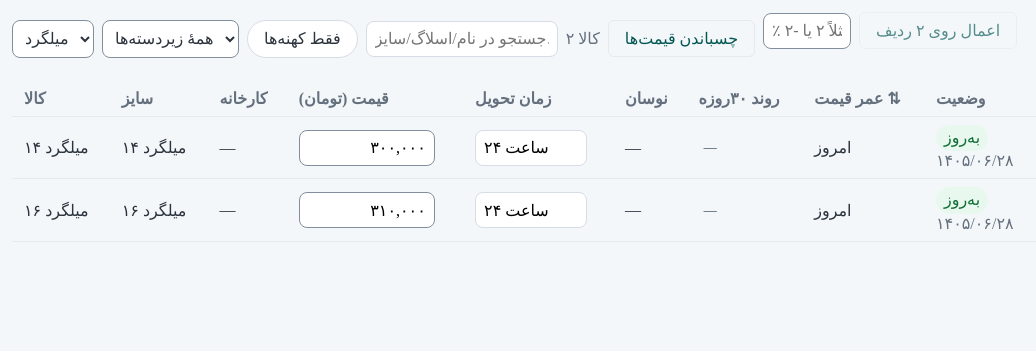
Test: PricingGrid dirty tracking › counts every changed row in the save bar and «انصراف» throws the lot away
This screenshot has width=1036, height=351.
Step 1. Clear the field named "قیمت میلگرد ۱۴" → (367, 148), box x1=299 y1=130 x2=435 y2=166
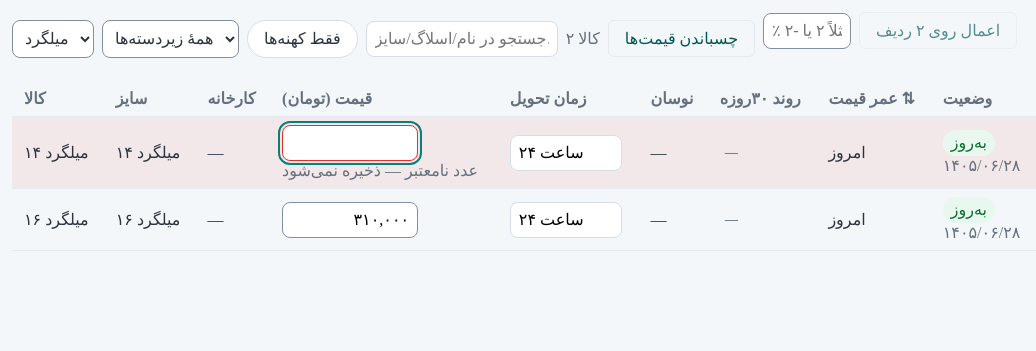
Step 2. Type "301000" into the field named "قیمت میلگرد ۱۴" → (350, 143), box x1=282 y1=125 x2=418 y2=161
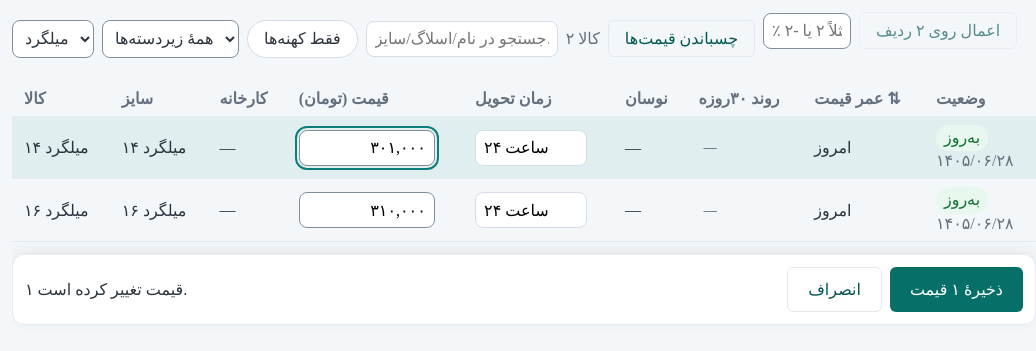
Expected: the text "۱ قیمت تغییر کرده است." is shown, x1=25 y1=280 x2=187 y2=299
Step 3. Clear the field named "قیمت میلگرد ۱۶" → (367, 210), box x1=299 y1=192 x2=435 y2=228
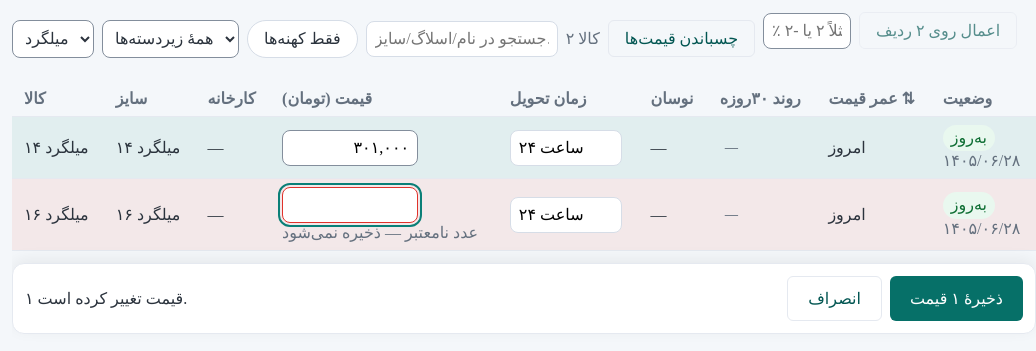
Step 4. Type "311000" into the field named "قیمت میلگرد ۱۶" → (350, 205), box x1=282 y1=187 x2=418 y2=223
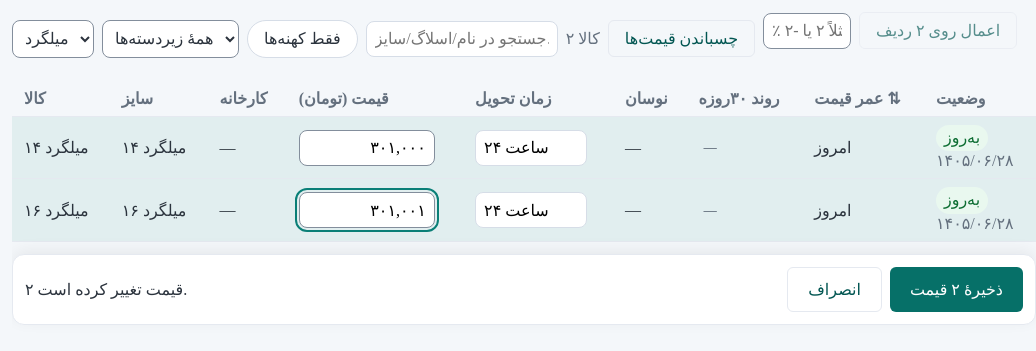
Expected: the text "۲ قیمت تغییر کرده است." is shown, x1=25 y1=280 x2=187 y2=299
Expected: the button "ذخیرهٔ ۲ قیمت" is shown, x1=890 y1=267 x2=1023 y2=312
Step 5. Click the button "انصراف" → (835, 289), box x1=787 y1=267 x2=882 y2=312
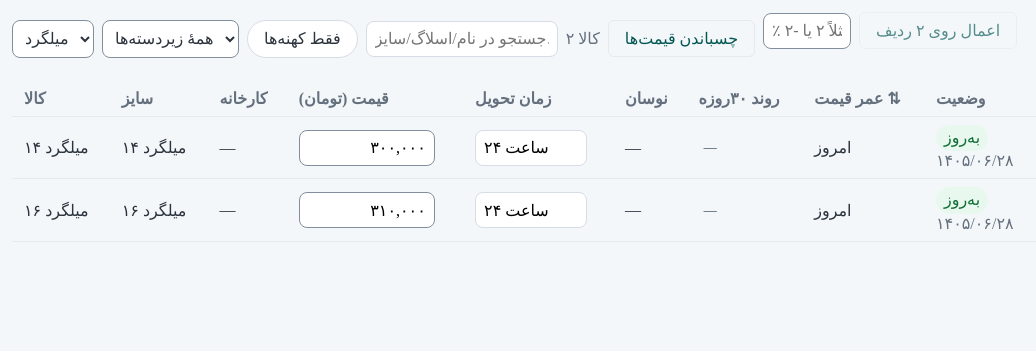
Expected: the field named "قیمت میلگرد ۱۴" holds "۳۰۰,۰۰۰", x1=299 y1=130 x2=435 y2=166
Expected: the text "قیمت تغییر کرده است." is gone
